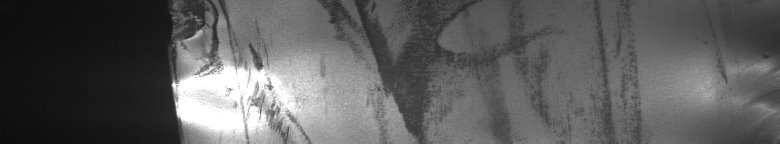ke: (188, 4, 455, 136)
